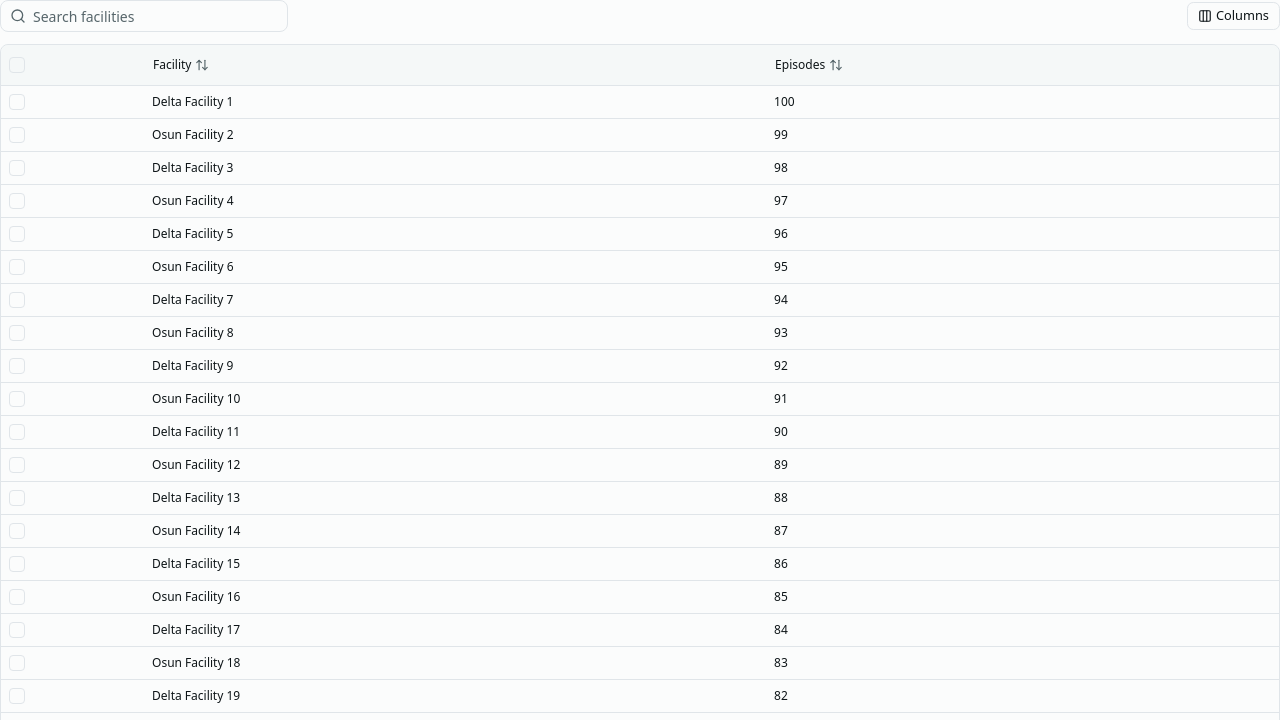
Test: DataTable › says so when a search matches nothing
This screenshot has width=1280, height=720.
Type "Ekiti" into the field labelled "Search facilities".
click(144, 16); type("Ekiti")  # box 0,0 -> 288,32
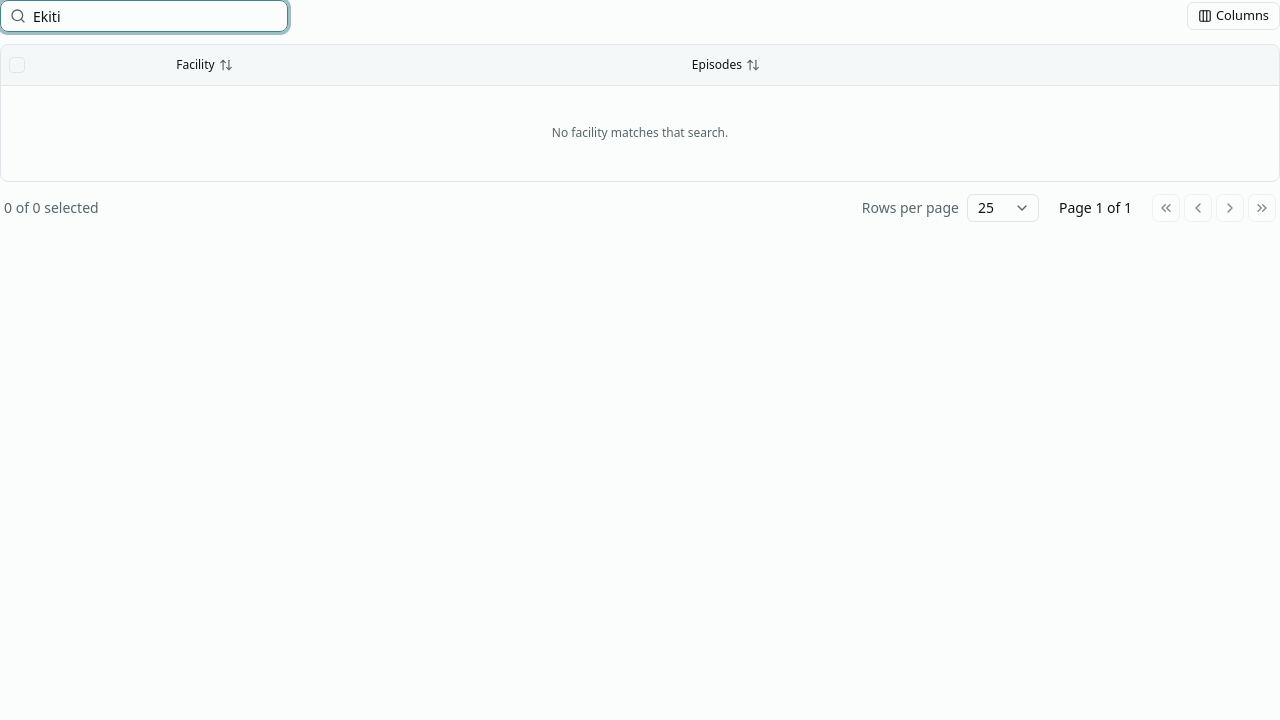
Expected: the text "No facility matches that search." is shown, 1,85 -> 1279,181
